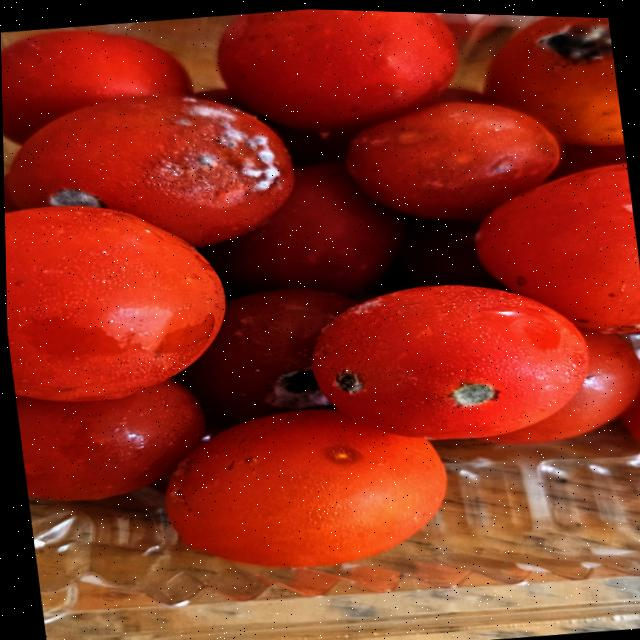rot_lvl1: (316, 441, 367, 471), (391, 125, 435, 149), (220, 454, 265, 474), (440, 149, 482, 168)
rot_lvl2: (172, 95, 285, 199), (535, 23, 614, 67), (263, 364, 328, 408), (327, 370, 370, 394)
